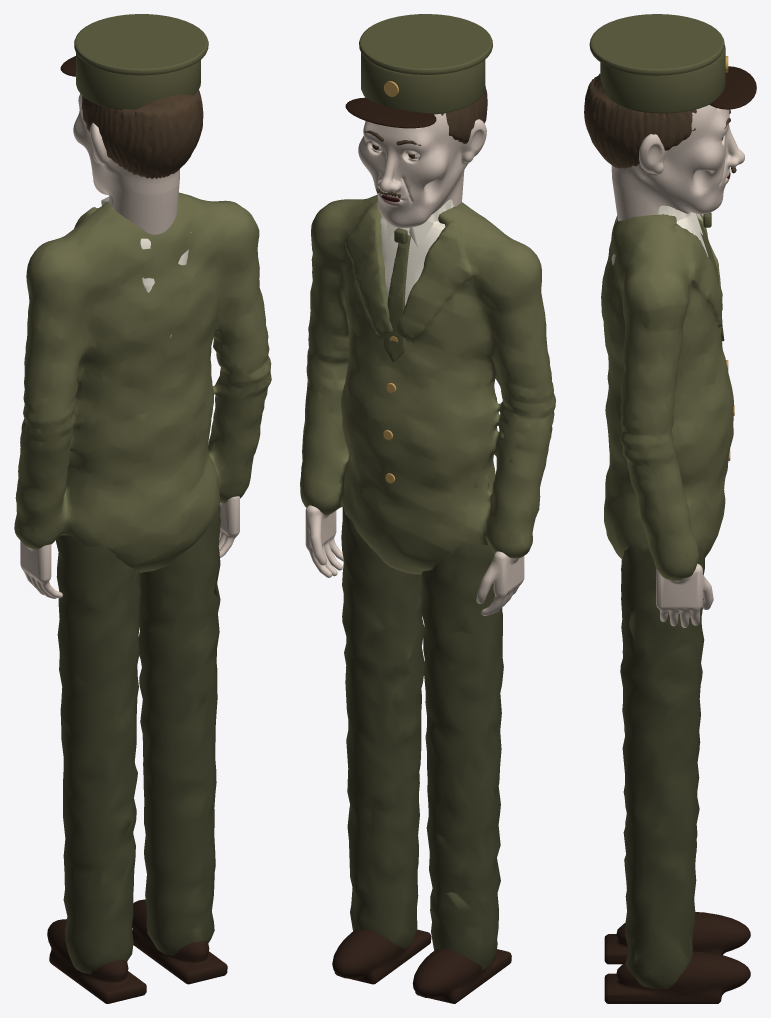
File: penhallow.fbx
The picture shows the model from 3 angles, left to right: view 1: azimuth 30°, elevation 25°; view 2: azimuth 150°, elevation 25°; view 3: azimuth 270°, elevation 25°; orthographic projection.
Visible parts, largest first — view 1: Body, Head, Hat, HandR, HandL; view 2: Body, Hat, Head, HandL, HandR; view 3: Body, Head, Hat, HandL.
Part boxes in pixels (left/top/right/bottom): Body: left=14, top=192, right=271, bottom=1003; Head: left=73, top=90, right=203, bottom=234; Hat: left=60, top=14, right=208, bottom=109; HandR: left=20, top=541, right=62, bottom=598; HandL: left=218, top=496, right=239, bottom=557; Body: left=300, top=195, right=555, bottom=1003; Hat: left=345, top=14, right=492, bottom=128; Head: left=358, top=86, right=487, bottom=228; HandL: left=305, top=505, right=343, bottom=577; HandR: left=476, top=551, right=524, bottom=615; Body: left=601, top=205, right=750, bottom=1003; Head: left=584, top=73, right=744, bottom=221; Hat: left=589, top=14, right=756, bottom=113; HandL: left=656, top=563, right=713, bottom=627.
Size of the model in its own units: 0.48 by 1.76 by 0.2952.
